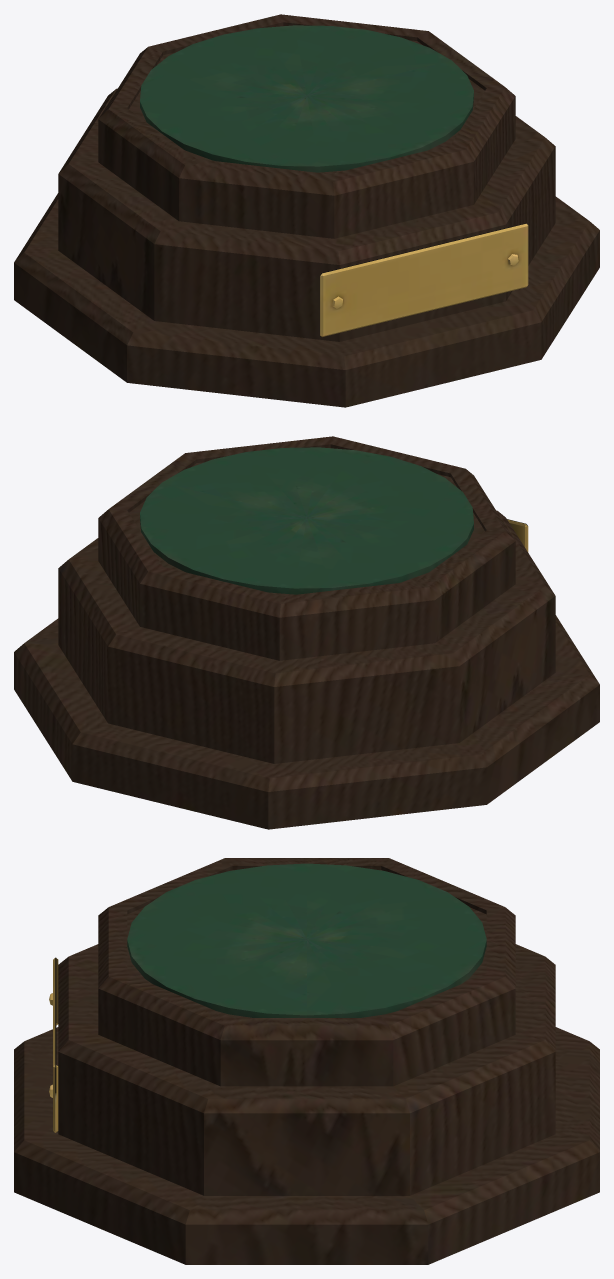
Rendered from trophy-plinth-empty.glb.
3 renders of one model, top to bottom at view 1: azimuth 30°, elevation 25°; view 2: azimuth 150°, elevation 25°; view 3: azimuth 270°, elevation 25°, orthographic. The views are drawn at different scales.
Visible parts, largest first — view 1: plinth; view 2: plinth; view 3: plinth.
Part boxes in pixels (bbox=[...]): plinth: bbox=[14, 14, 599, 407]; plinth: bbox=[14, 436, 599, 829]; plinth: bbox=[14, 858, 599, 1264].
Size of the model in its own units: 0.132 by 0.0501 by 0.132.
Materials: 1 (1 with a texture image).
